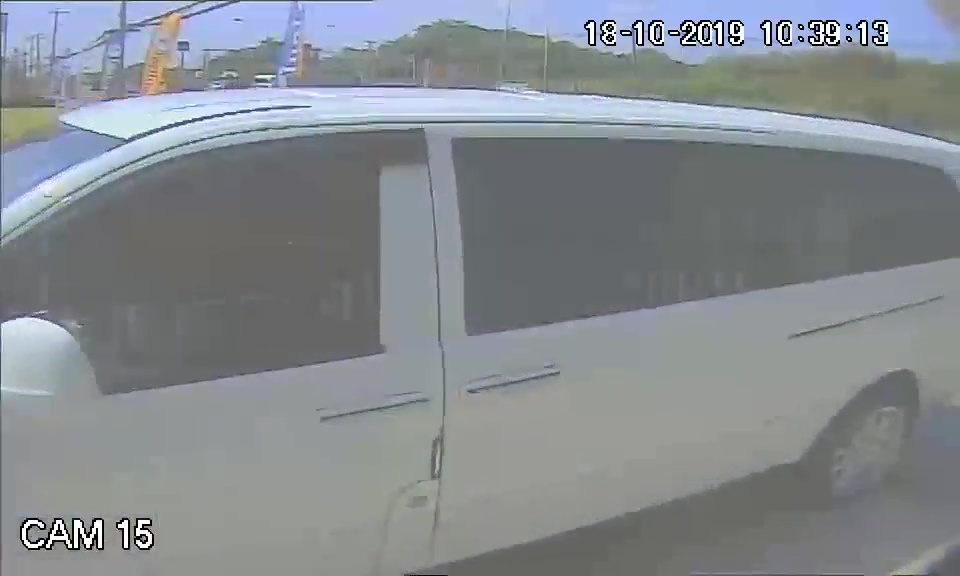van: (15, 82, 960, 533)
